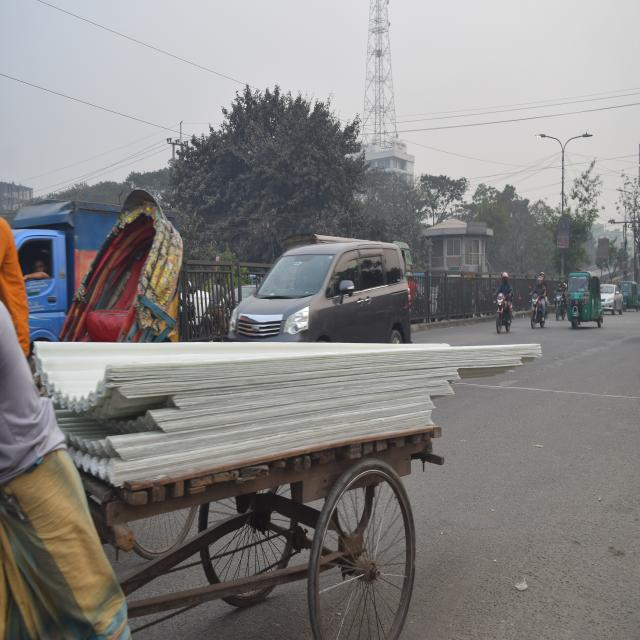car: (232, 227, 416, 347), (601, 284, 619, 314)
motorbike: (491, 269, 524, 342), (530, 262, 549, 333), (555, 278, 570, 328)
pickup-van: (9, 211, 96, 312)
